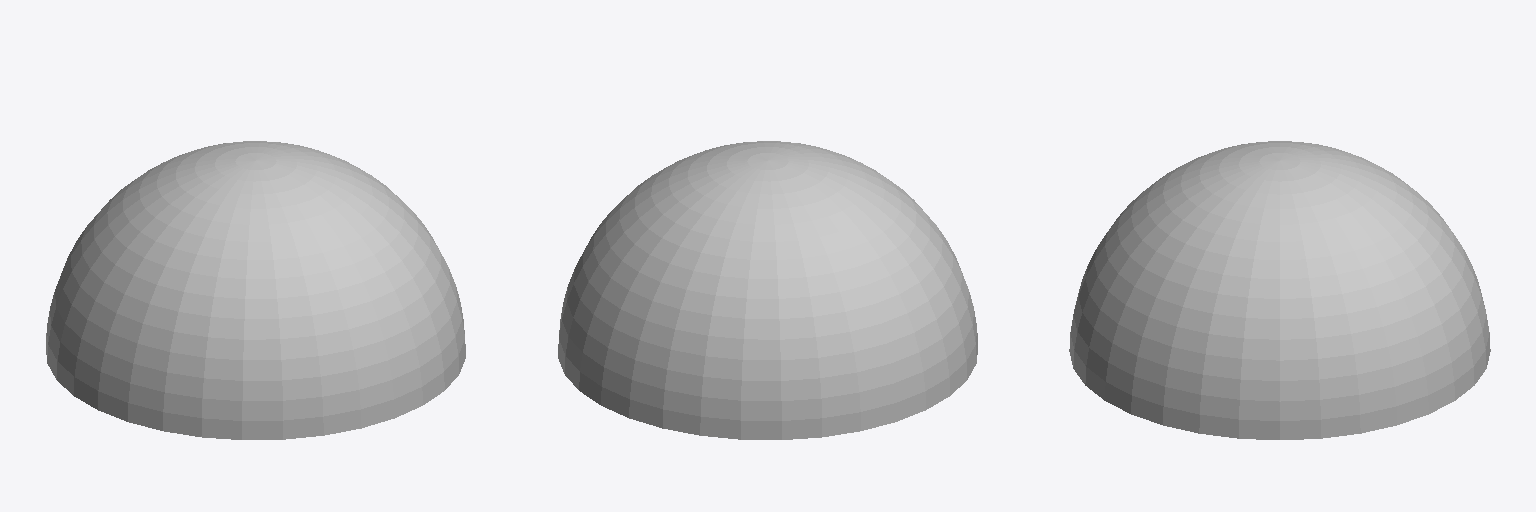
The model's file is skydome.obj.
The picture shows the model from 3 angles: view 1: azimuth 30°, elevation 25°; view 2: azimuth 150°, elevation 25°; view 3: azimuth 270°, elevation 25°; orthographic projection.
Parts seen in each view (by area): view 1: Sphere; view 2: Sphere; view 3: Sphere.
Part boxes in pixels (bbox=[...]): Sphere: bbox=[46, 141, 465, 439]; Sphere: bbox=[558, 141, 977, 439]; Sphere: bbox=[1069, 141, 1490, 439].
Bounding box in the file's own units: 3412 × 1706 × 3412.